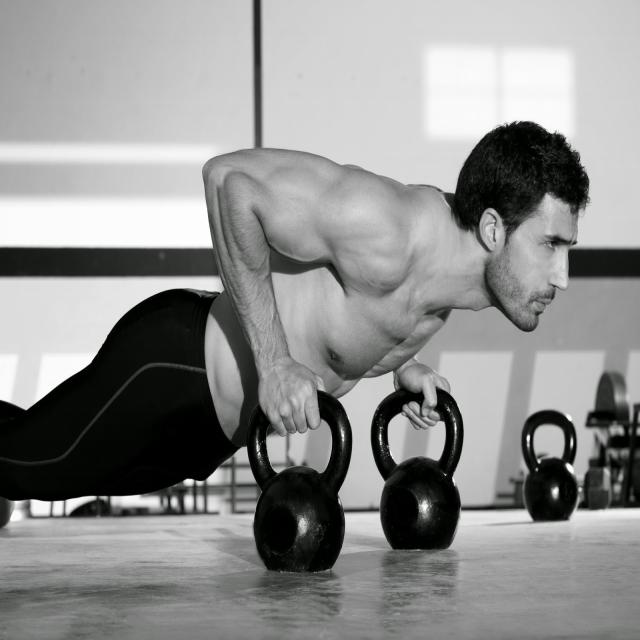Kettlebell: (232, 375, 358, 584), (366, 370, 472, 561), (514, 399, 587, 537)
